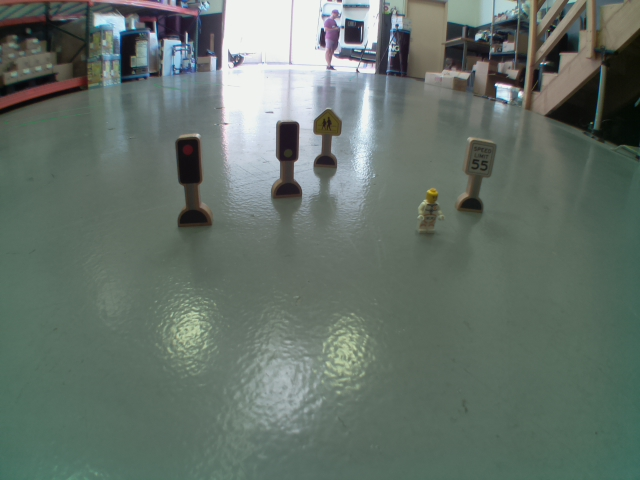Green Traffic Light: (275, 120, 300, 164)
Red Traffic Light: (173, 135, 205, 186)
Speed Limit 55: (464, 136, 497, 179)
YIELD: (310, 105, 342, 139)
person: (415, 187, 445, 234)
